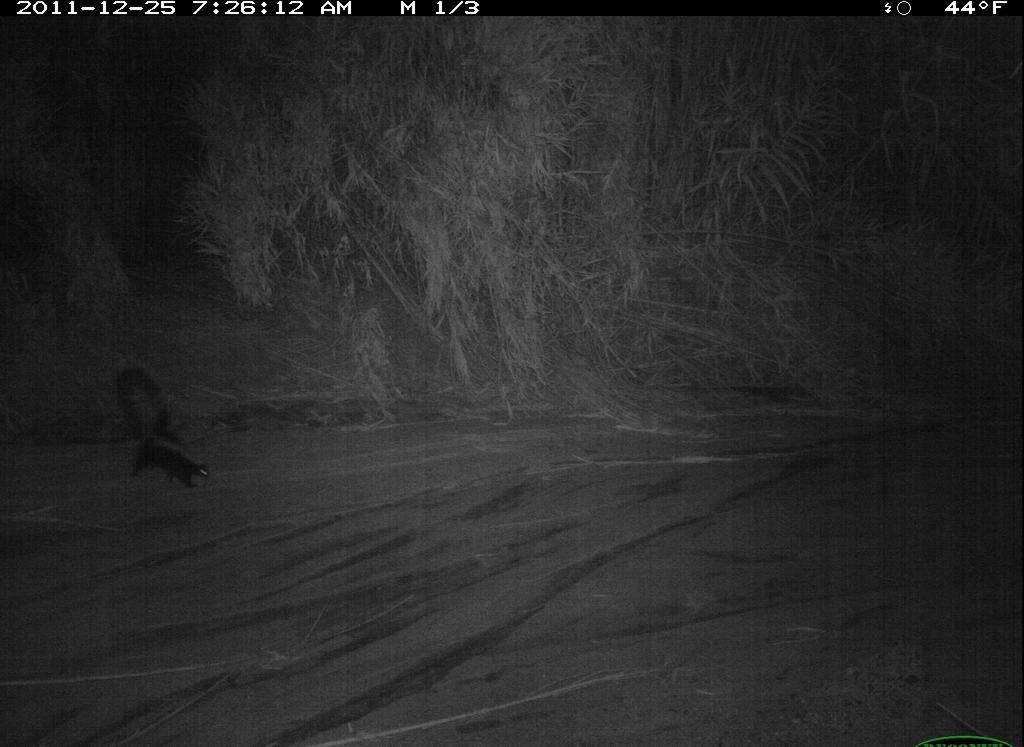skunk: (111, 354, 236, 500)
